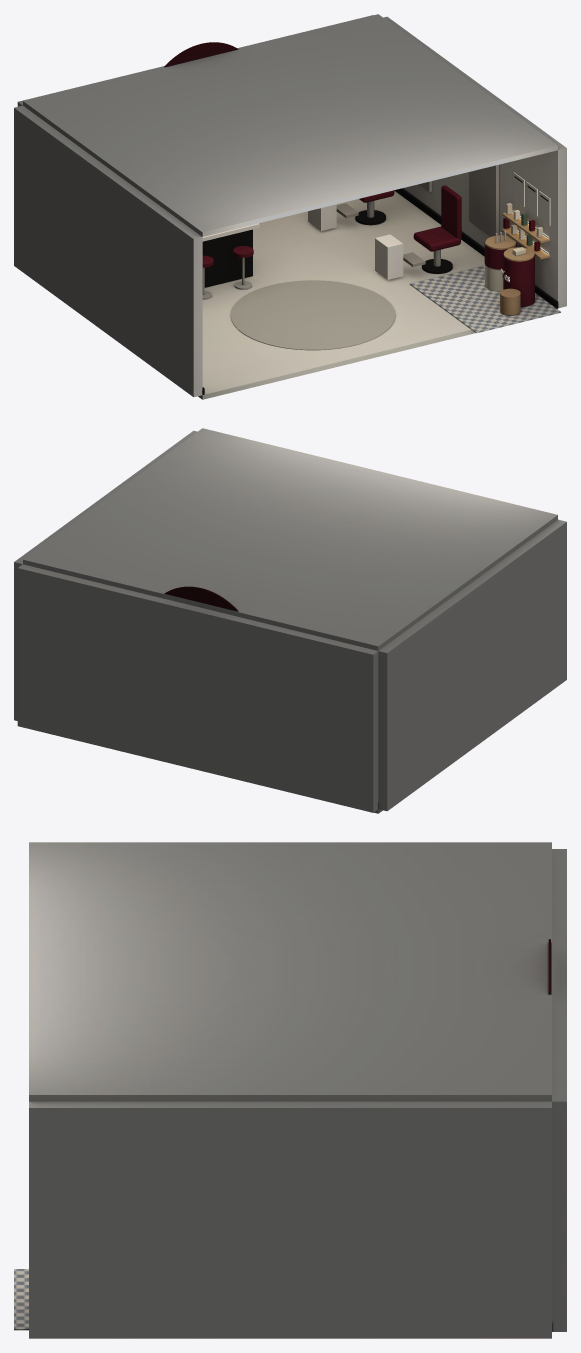
The model's file is salon.glb.
The picture shows the model from 3 angles, top to bottom: view 1: azimuth 30°, elevation 25°; view 2: azimuth 150°, elevation 25°; view 3: azimuth 270°, elevation 25°; orthographic projection. The views are drawn at different scales.
Visible parts, largest first — view 1: salon; view 2: salon; view 3: salon.
Boxes of the visible parts, x1,y1,x2,y2 form: salon: (14, 14, 566, 399); salon: (14, 428, 566, 813); salon: (14, 842, 566, 1338).
Size of the model in its own units: 8.4 by 3.9 by 7.4.
Materials: 1 (1 with a texture image).
